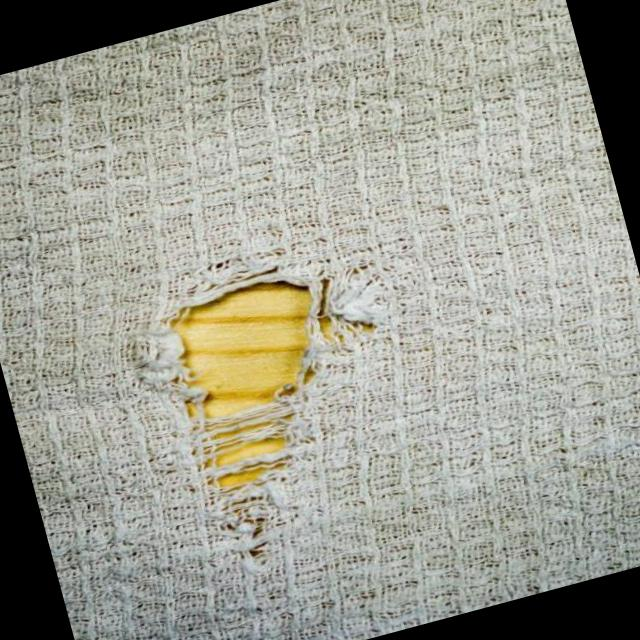cut: (130, 222, 440, 582)
